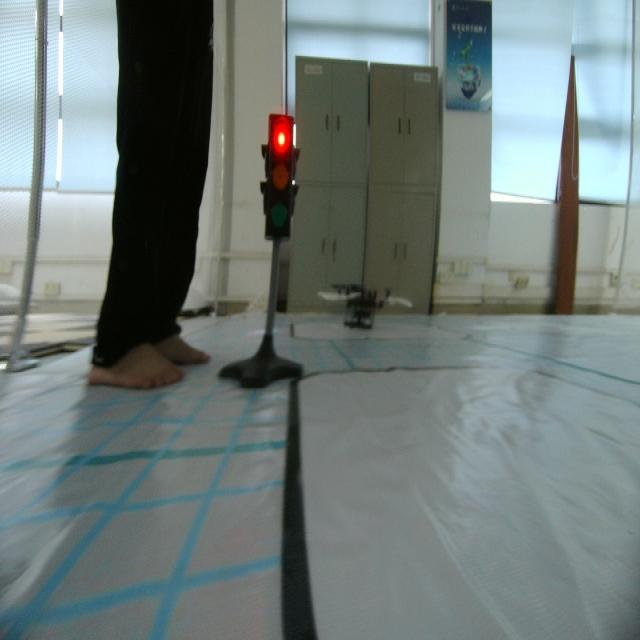red: (257, 107, 301, 251)
